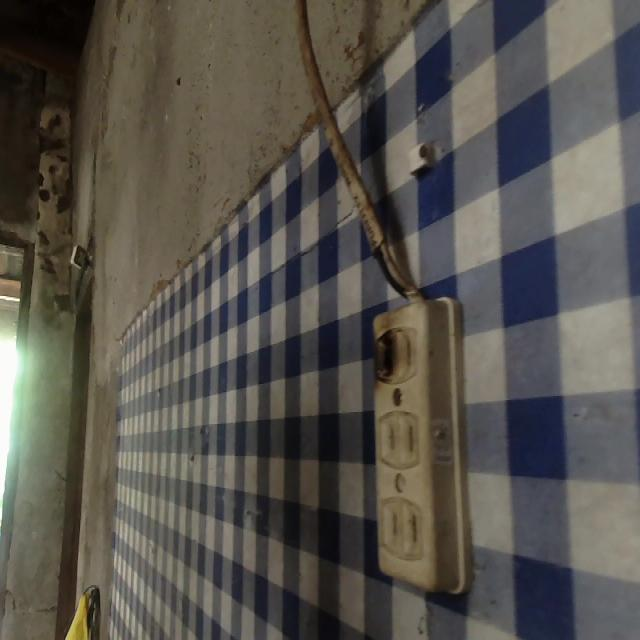-: (367, 326, 402, 382)
